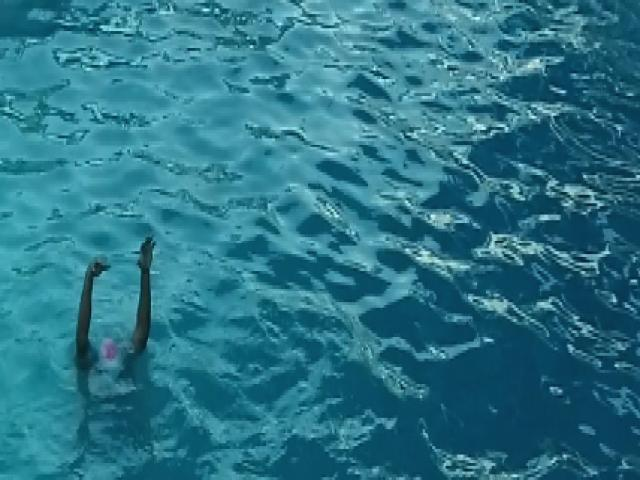drowning: (76, 228, 158, 433)
